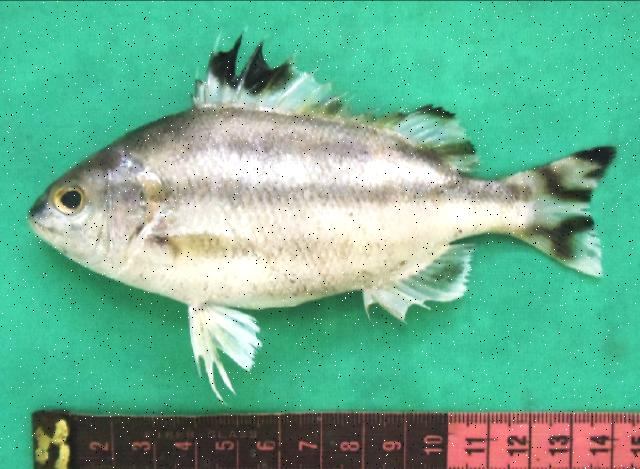Mulut: (18, 187, 68, 265)
Sirip Anal: (351, 237, 484, 331)
Sirip Dada: (150, 219, 264, 269)
Sirip Ekor: (511, 117, 629, 297)
Sirip Perut: (182, 294, 268, 406)
Sirip Punggung: (187, 16, 483, 174)
